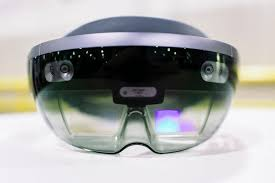hololens: (26, 22, 241, 158)
